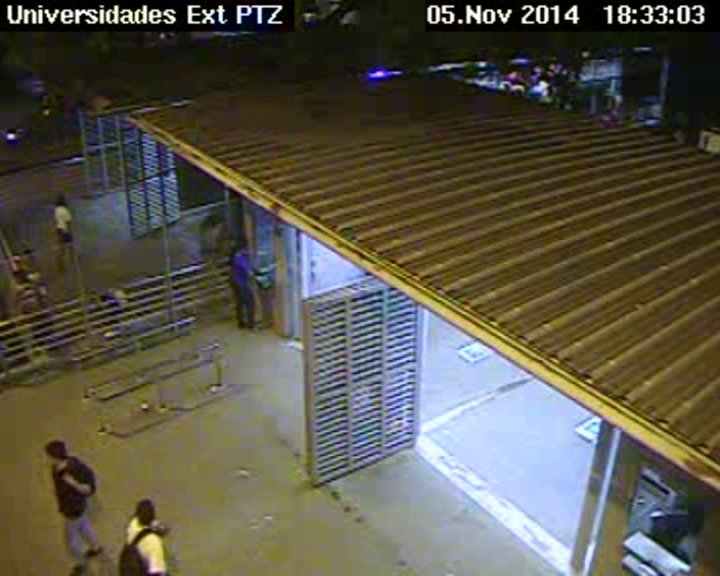person: (135, 498, 162, 526), (43, 439, 69, 465), (51, 191, 69, 209), (232, 232, 249, 251), (12, 270, 26, 283), (208, 214, 220, 227), (21, 248, 32, 259)
